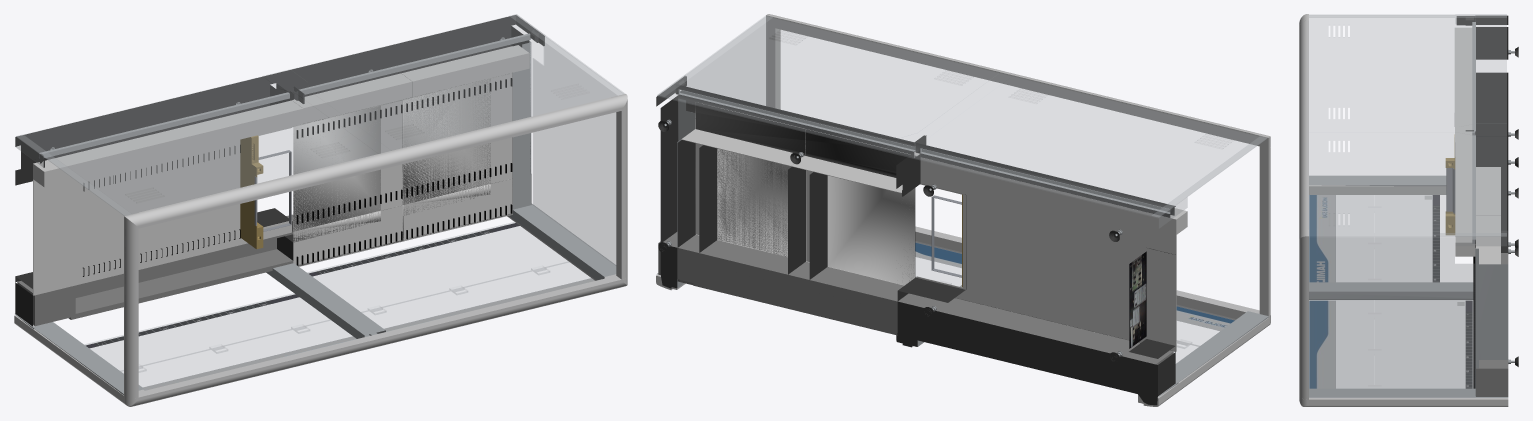
Rendered from starplus_base.glb.
3 views of the same model, side by side, from view 1: azimuth 30°, elevation 25°; view 2: azimuth 150°, elevation 25°; view 3: azimuth 270°, elevation 25° (orthographic). The views are drawn at different scales.
Visible parts, largest first — view 1: starplus_base; view 2: starplus_base; view 3: starplus_base.
Part boxes in pixels (x1,y1,x2,y2): starplus_base: (14,14,627,406); starplus_base: (656,14,1270,406); starplus_base: (1299,14,1518,406).
Size of the model in its own units: 2.16 by 0.7926 by 0.903.
15 materials, 5 textured.
